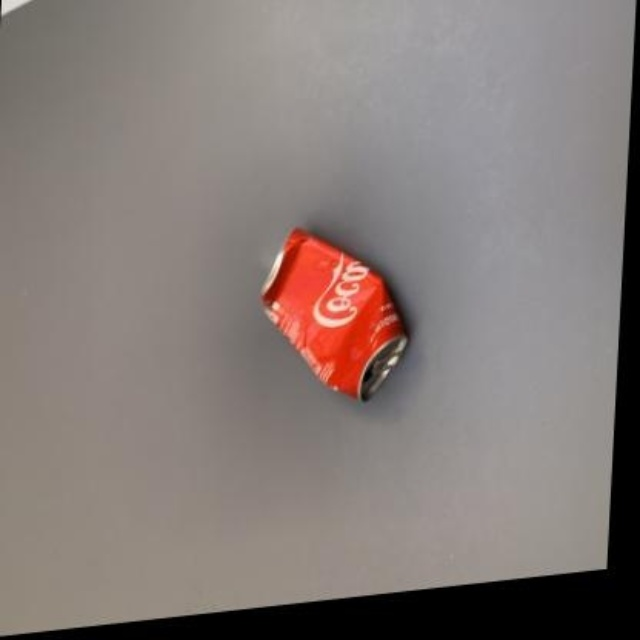trash: (262, 228, 406, 398)
